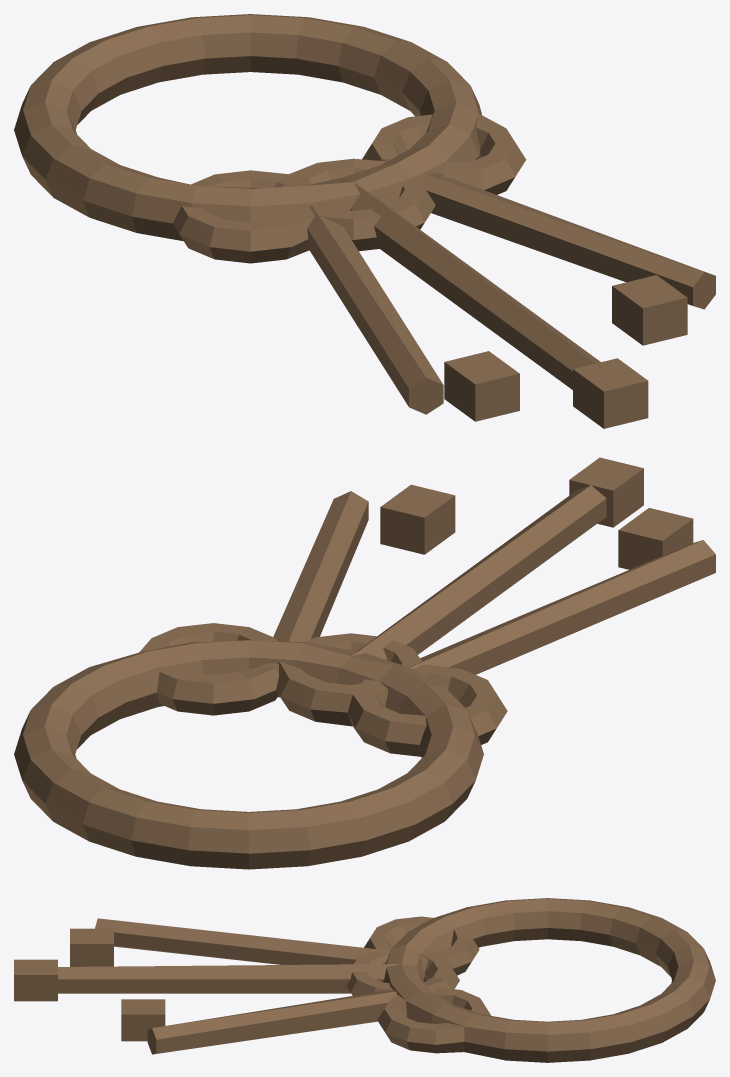
File: key_ring.glb
The picture shows the model from 3 angles, top to bottom: view 1: azimuth 30°, elevation 25°; view 2: azimuth 150°, elevation 25°; view 3: azimuth 270°, elevation 25°; orthographic projection. The views are drawn at different scales.
Parts seen in each view (by area): view 1: key_ring; view 2: key_ring; view 3: key_ring.
Boxes of the visible parts, left/top/right/bottom form: key_ring: left=14, top=14, right=715, bottom=428; key_ring: left=14, top=457, right=715, bottom=869; key_ring: left=14, top=898, right=715, bottom=1062.
Bounding box in the file's own units: 0.046 × 0.006 × 0.096.
